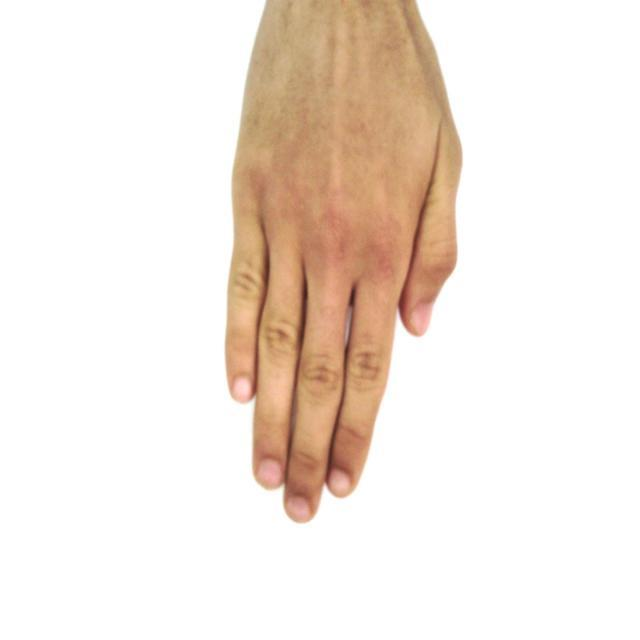Fingernail: (259, 460, 281, 487), (288, 497, 311, 521), (414, 304, 432, 334), (329, 472, 350, 496), (234, 377, 251, 402)
